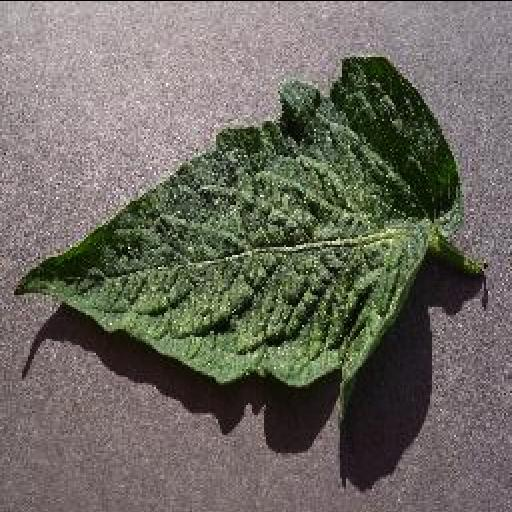disease_tomato: (10, 56, 464, 386)
